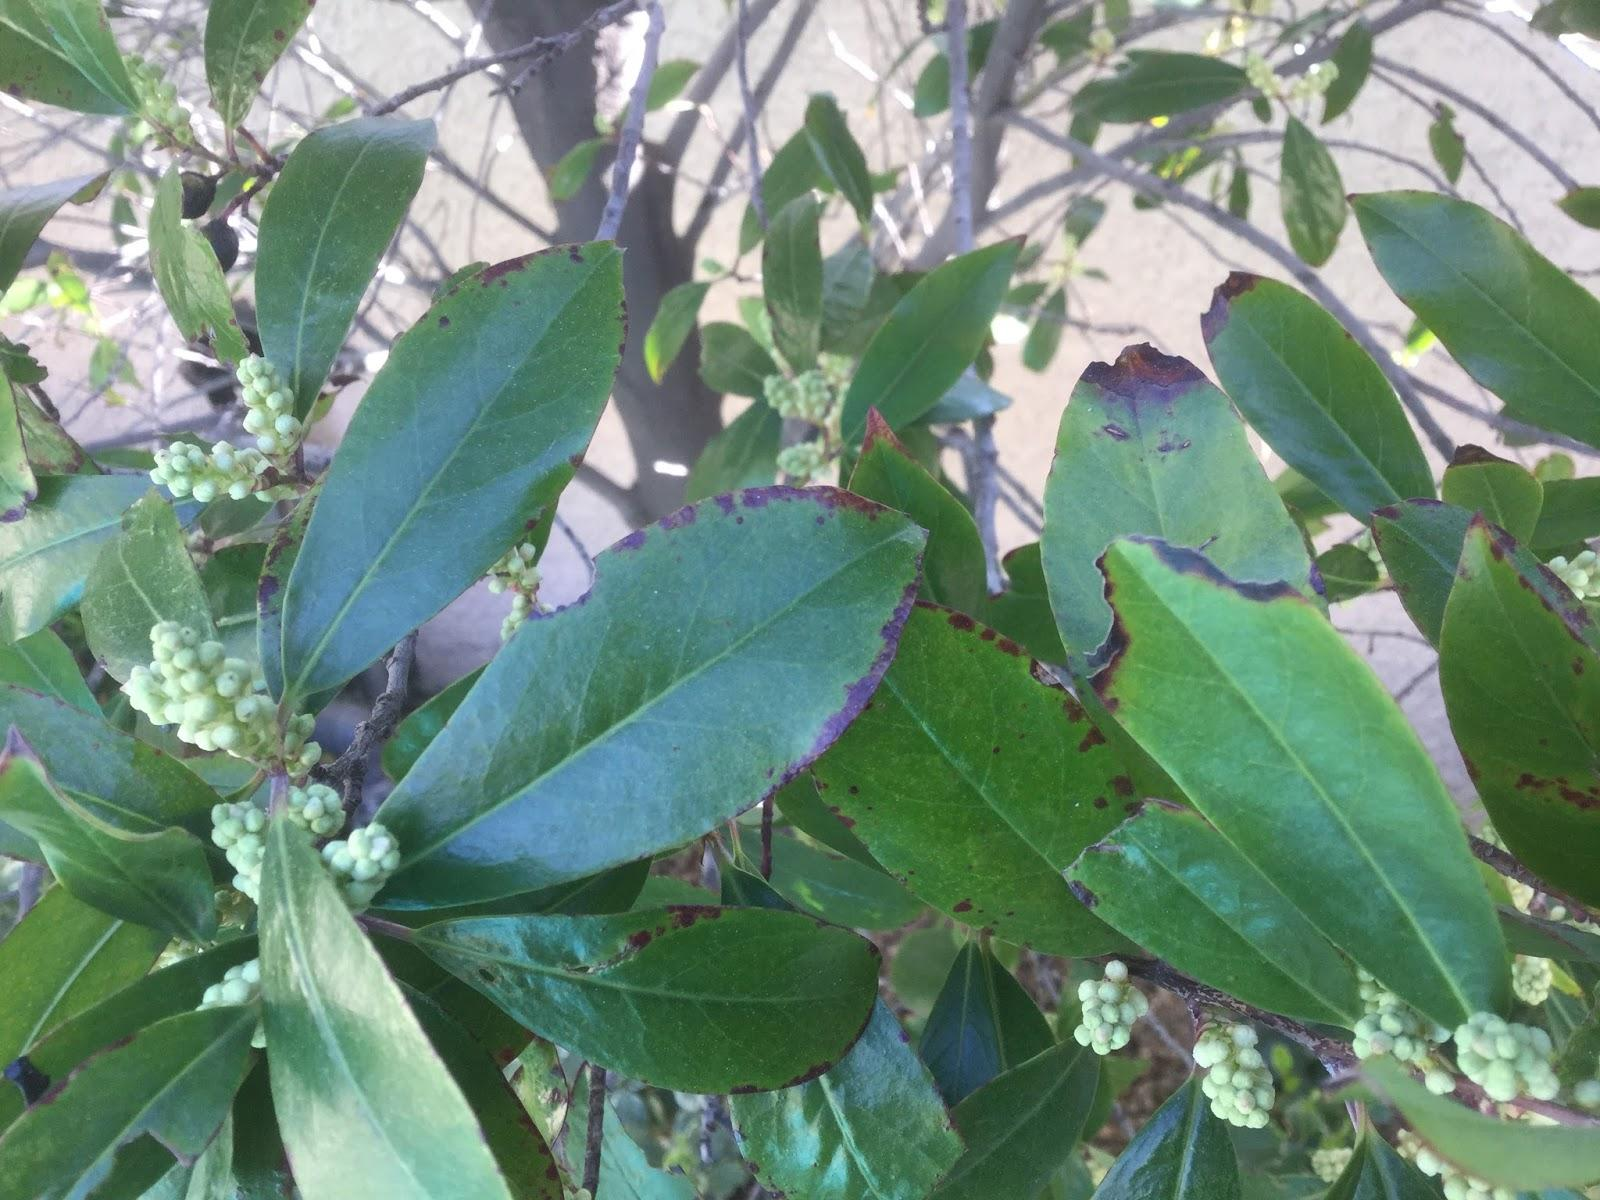Cherry leaf: (355, 474, 985, 939), (1060, 495, 1526, 1095), (261, 218, 673, 731), (393, 892, 934, 1098), (220, 97, 501, 476), (1325, 153, 1600, 488), (1183, 253, 1461, 571), (1, 750, 241, 974), (66, 482, 251, 724)
